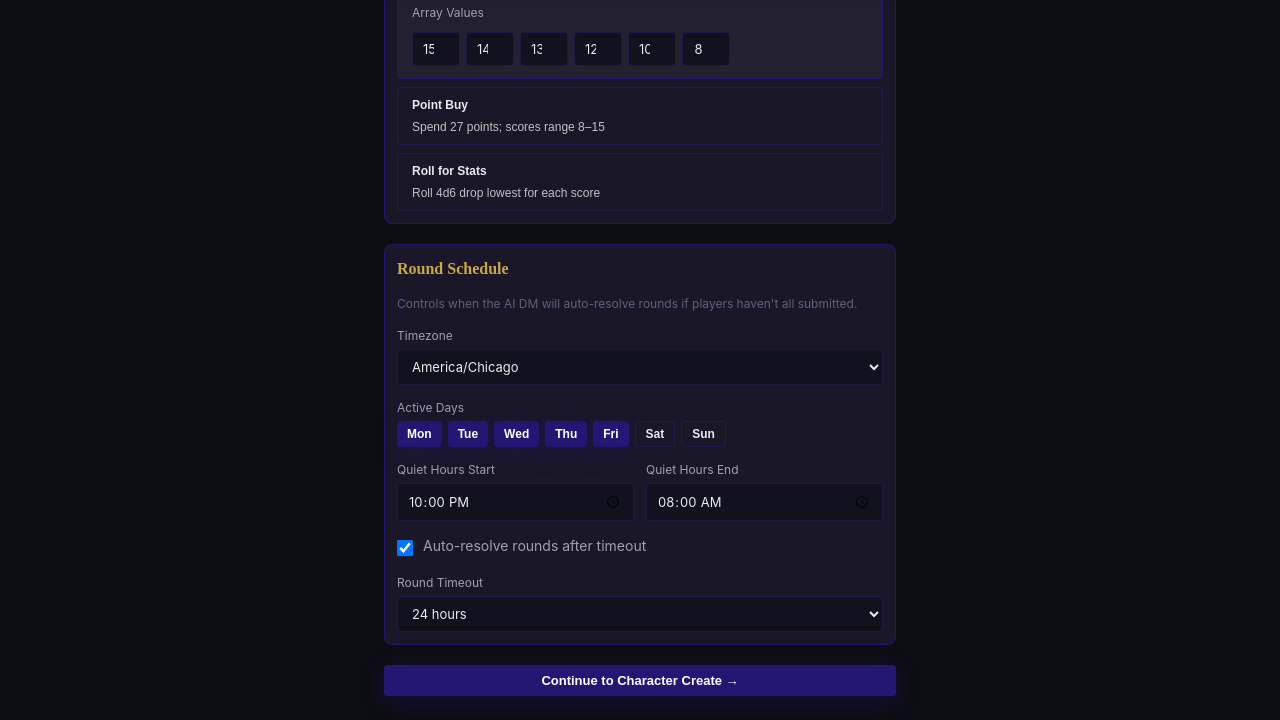
Scenario: Continue to Character Create › dismissing lock-rules confirmation stays on campaign setup
(page scrolled)
Click the button "Continue to Character Create →" at (640, 680), box [384,665,896,696]
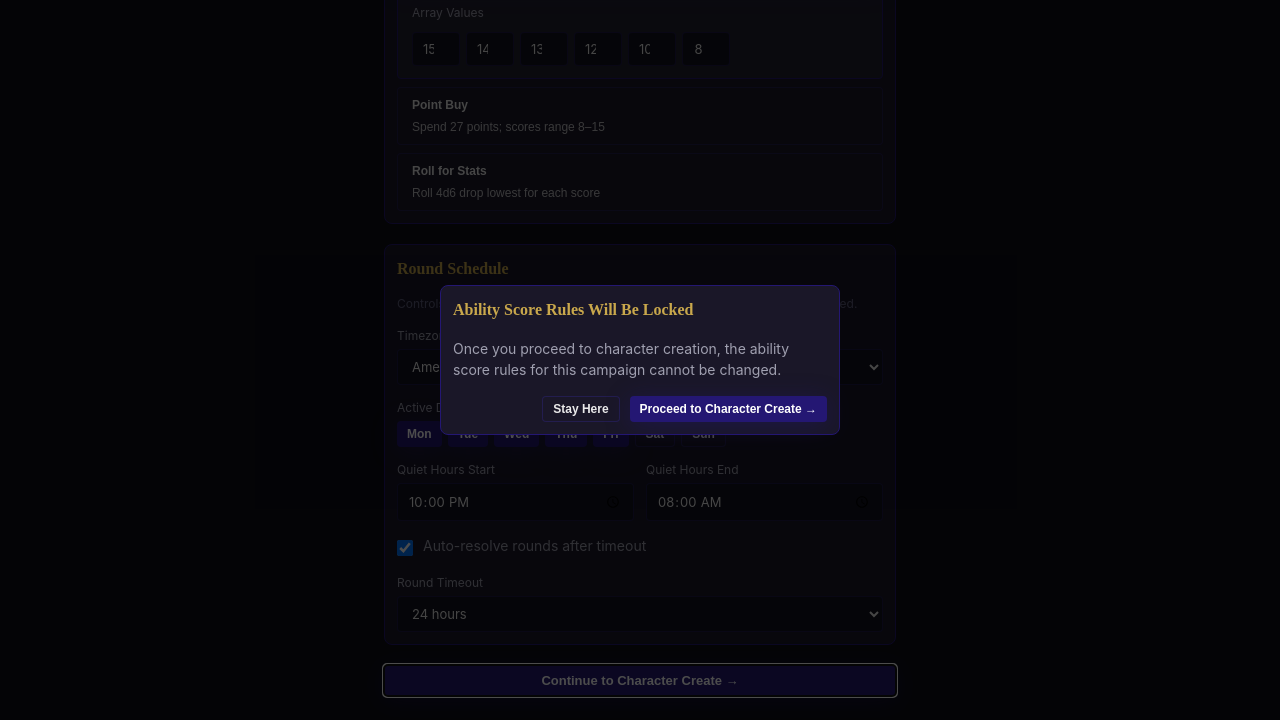
Click the button "Stay Here" at (581, 409), box [542,396,620,422]
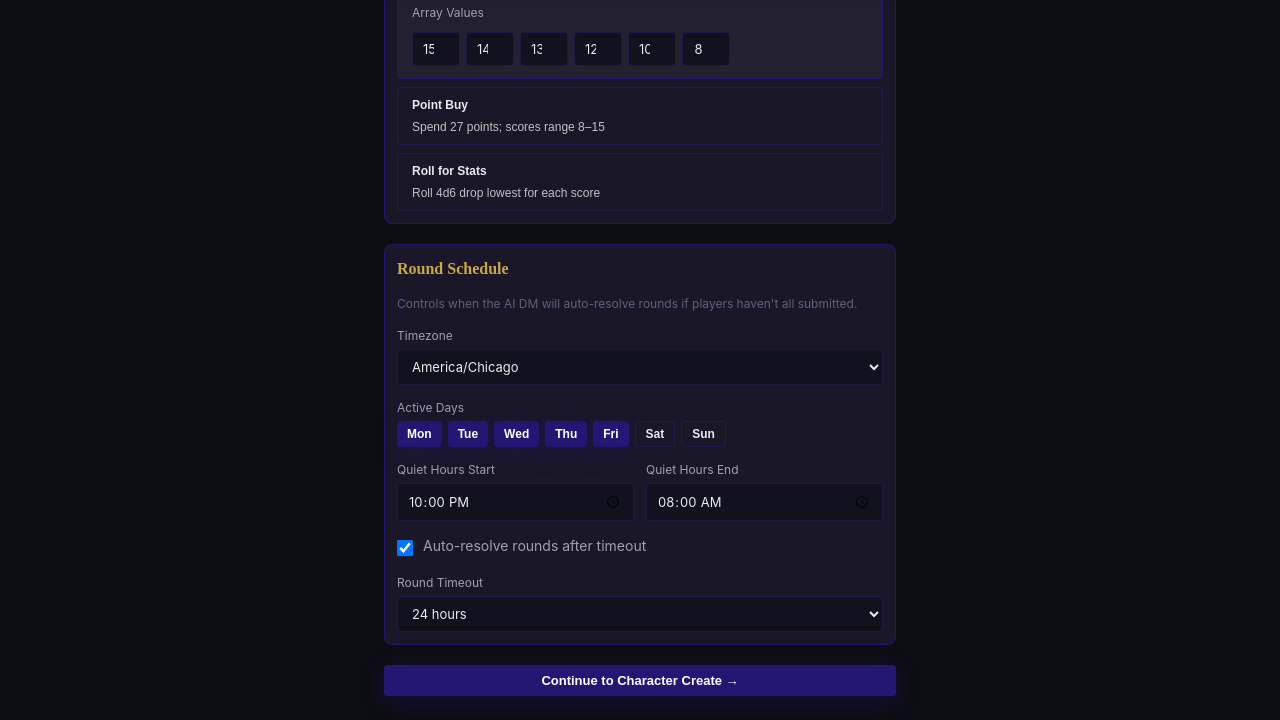
Expected: the heading "Ability Score Rules Will Be Locked" is gone
